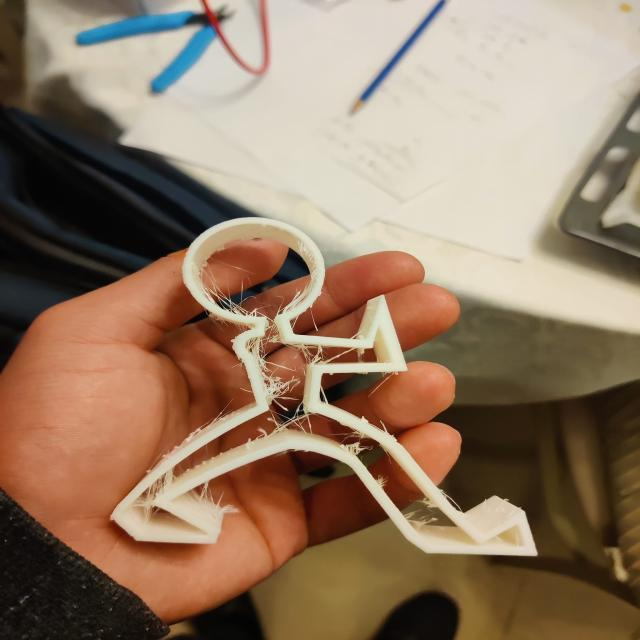Stringing: (209, 274, 255, 318), (262, 371, 301, 407), (325, 345, 359, 364), (280, 414, 316, 431), (298, 346, 329, 364), (247, 341, 268, 362), (344, 442, 366, 456)
